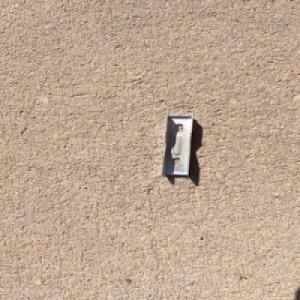ClampPart: (160, 113, 195, 177)
